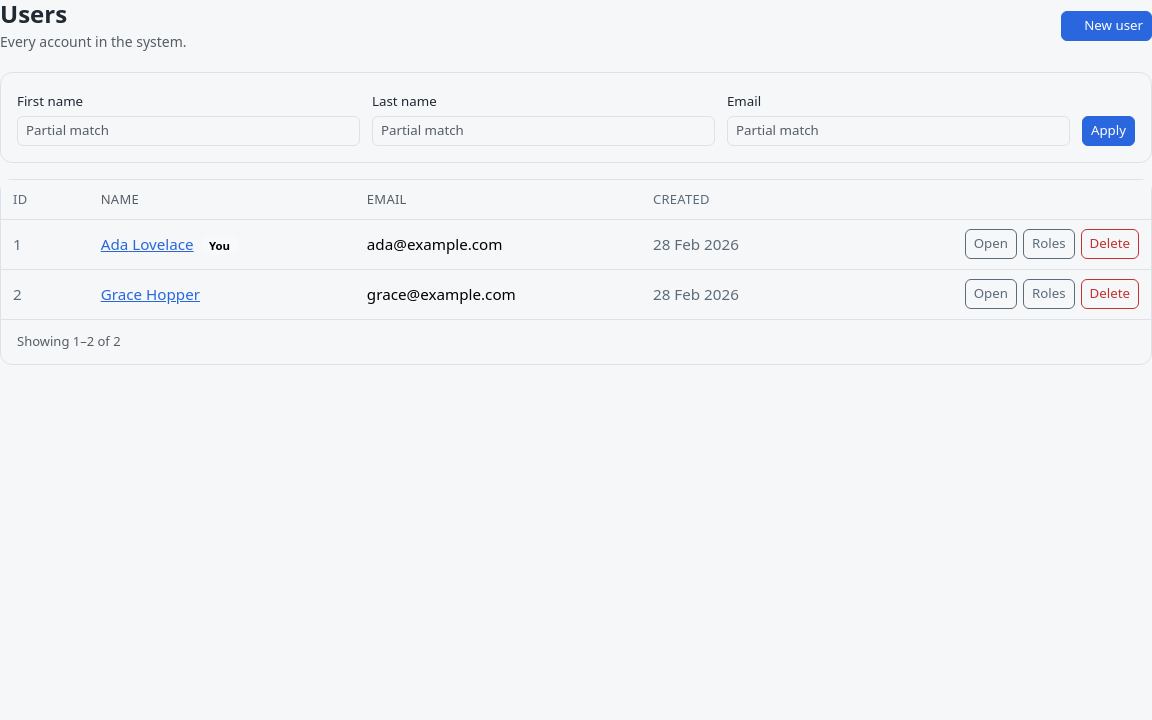
Test case: Users list › surfaces the 409 that protects the last role manager
Click the button "Delete" in the row of "Hopper": x=1110, y=294 [1081, 280, 1139, 309]
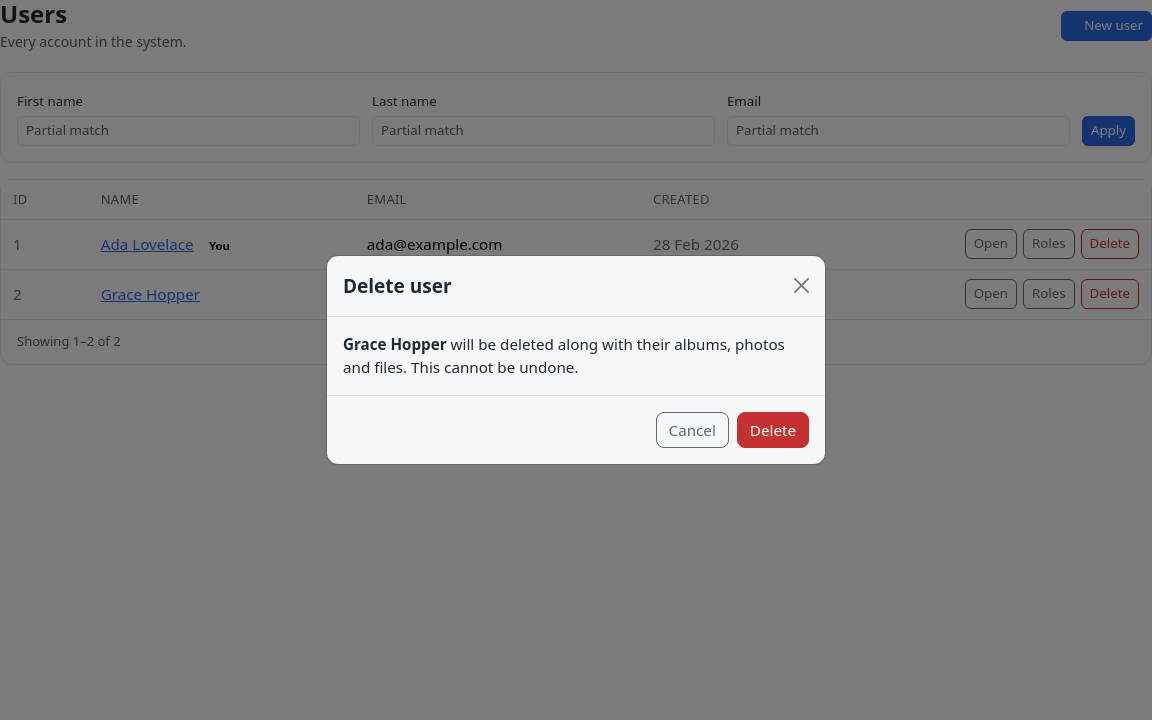
Click the button "Delete": x=773, y=430 [737, 412, 809, 448]
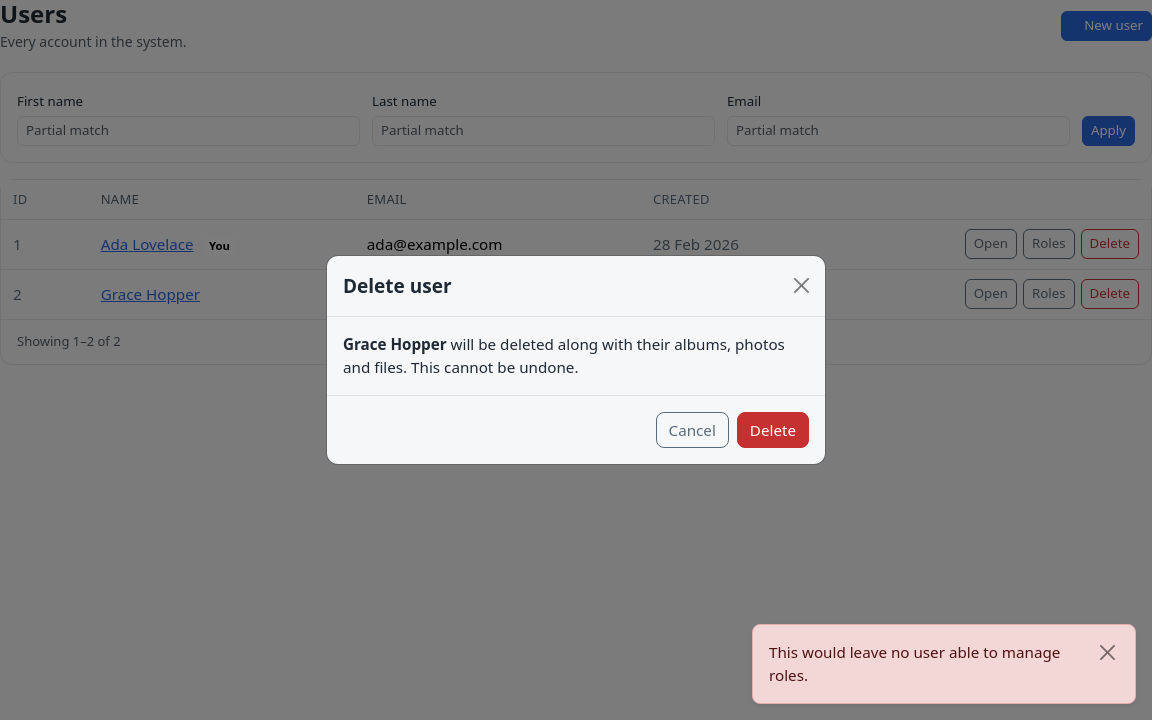
Check: the text "This would leave no user able to manage roles." is shown, box [769, 641, 1089, 687]
